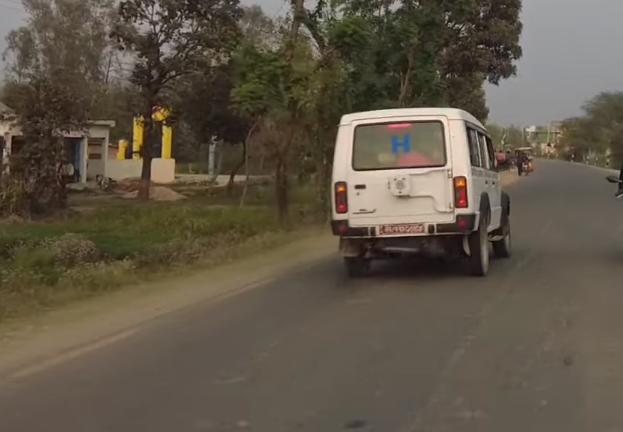ambulance: (316, 96, 524, 280)
